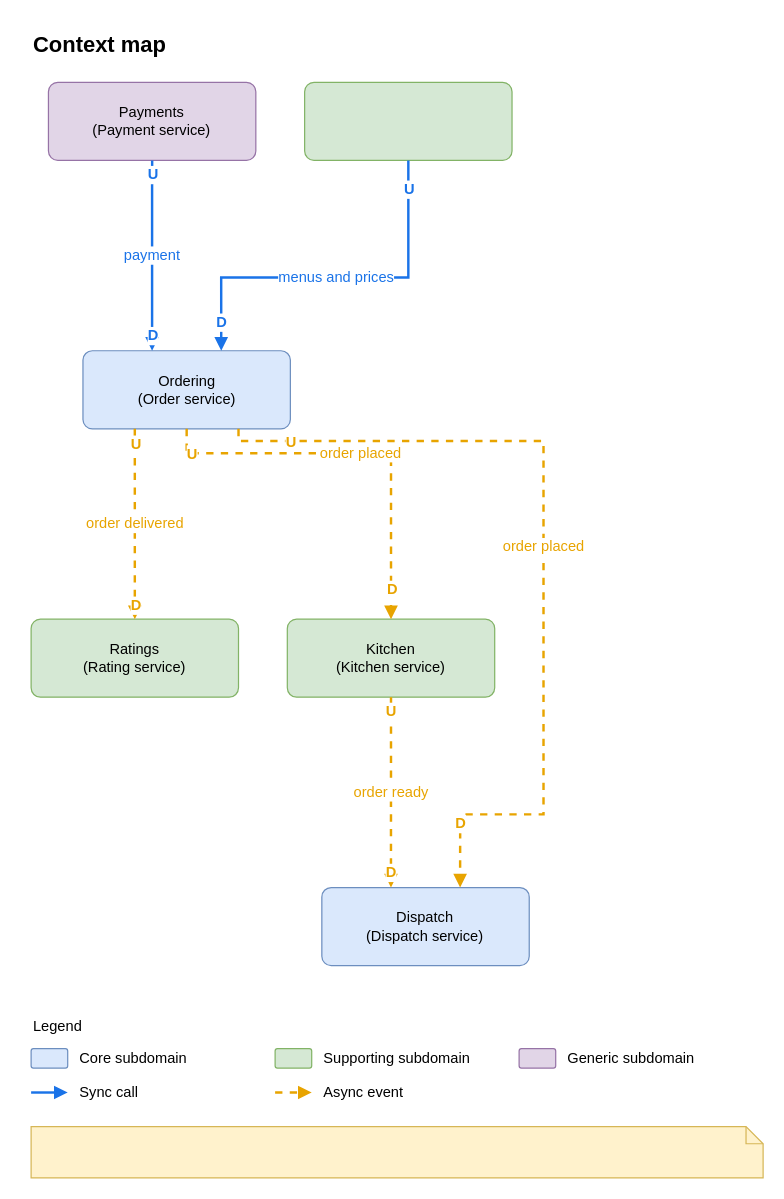
Image size: 784x1199. Some labels were removed from this diagram. The centre of each missing label's shape, as x and y in pixels:
Restaurant catalogue (Catalogue service): point 407,120
U = upstream (provides the model or data), D = downstream (depends on it).: point 396,1151
